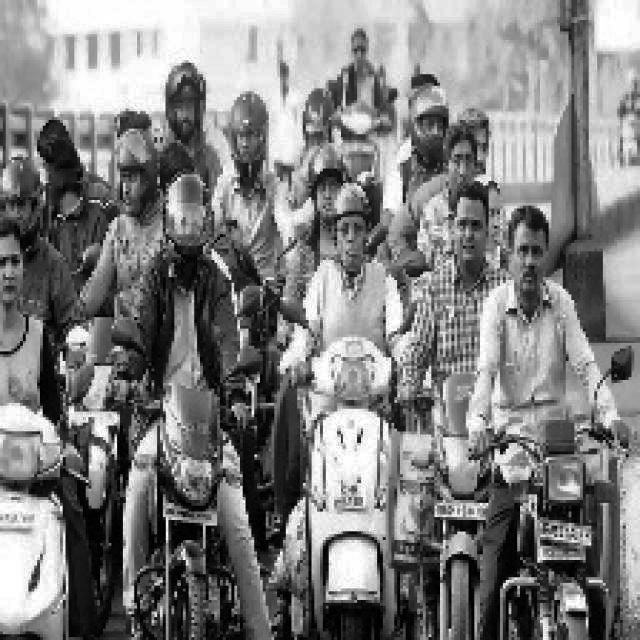Bike: (289, 340, 408, 639), (501, 407, 609, 639), (4, 399, 82, 639), (163, 378, 234, 639), (420, 407, 496, 639)
